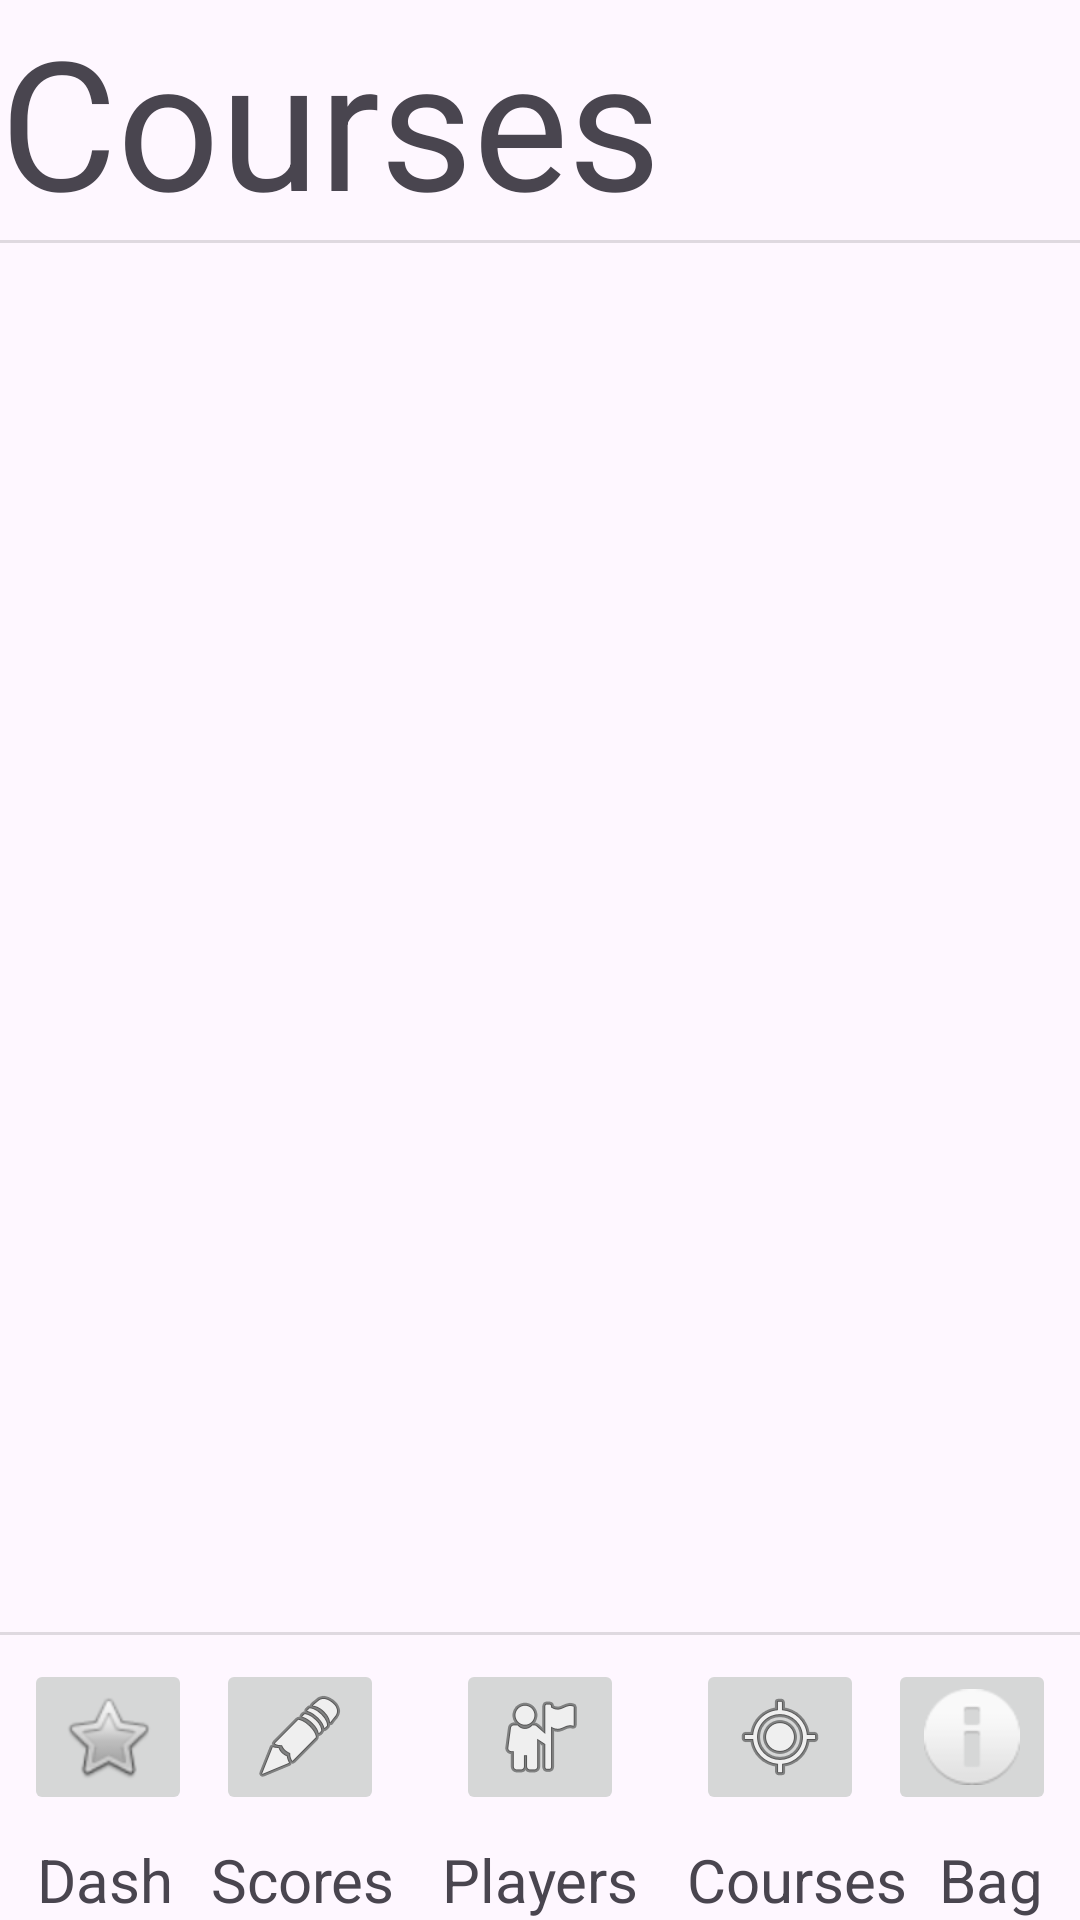

Locate icon controls on the screen. Image size 1080px×1920px, boxes as region(x1, y1, x2, y2).
edit: region(228, 1677, 372, 1797)
info: region(900, 1677, 1044, 1797)
mylocation: region(708, 1677, 852, 1797)
myplaces: region(468, 1677, 612, 1797)
star: region(36, 1677, 180, 1797)
